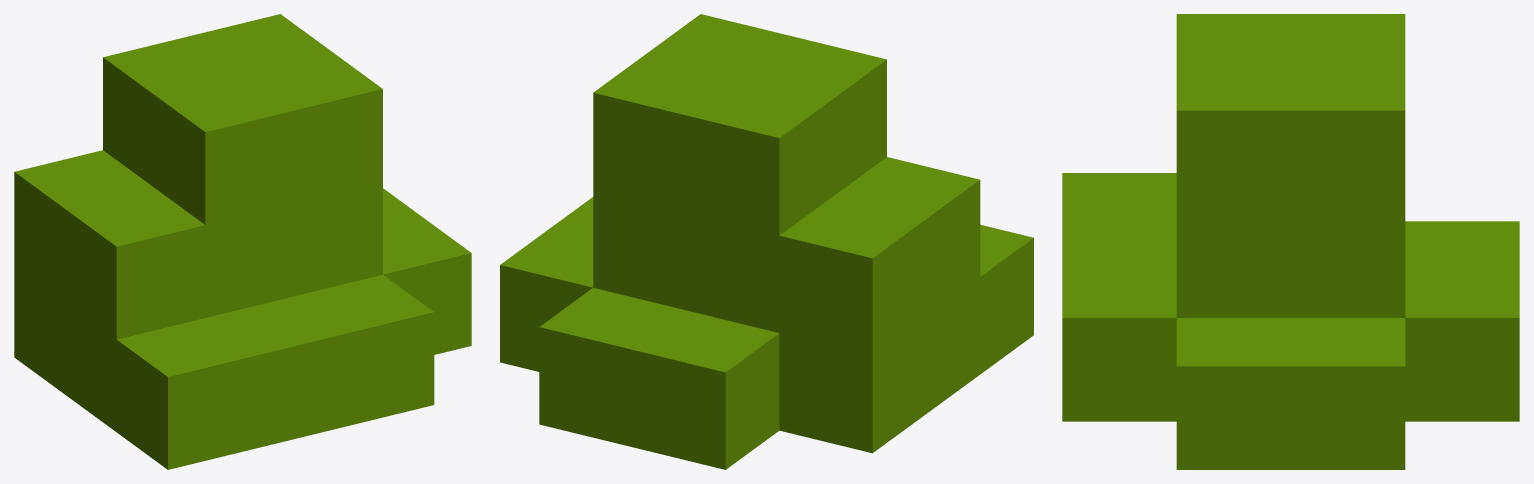
File: bush1.obj
3 views of the same model, side by side, from view 1: azimuth 30°, elevation 25°; view 2: azimuth 150°, elevation 25°; view 3: azimuth 270°, elevation 25° (orthographic). The views are drawn at different scales.
Size of the model in its own units: 4 by 3 by 4.
Materials: 1 (1 with a texture image).
